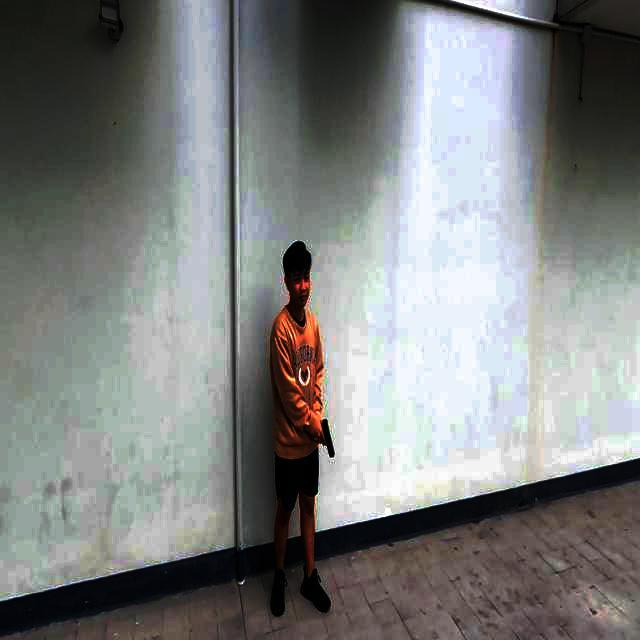Gun: (312, 417, 343, 468)
